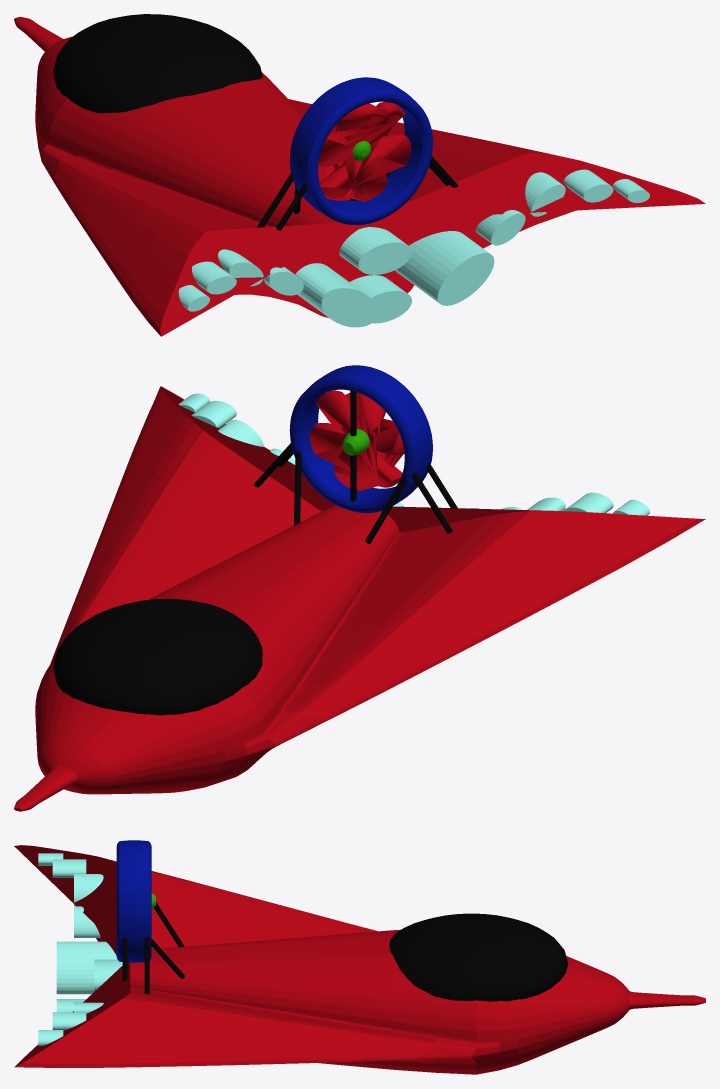
The model's file is RED FASE 2.fbx.
3 renders of one model, top to bottom at view 1: azimuth 30°, elevation 25°; view 2: azimuth 150°, elevation 25°; view 3: azimuth 270°, elevation 25°, orthographic. The views are drawn at different scales.
Visible parts, largest first — view 1: RED FASE 2; view 2: RED FASE 2; view 3: RED FASE 2.
Part boxes in pixels (x1,y1,x2,y2): RED FASE 2: [14, 14, 705, 336]; RED FASE 2: [14, 365, 705, 811]; RED FASE 2: [14, 840, 705, 1074].
Size of the model in its own units: 696 by 235 by 526.
